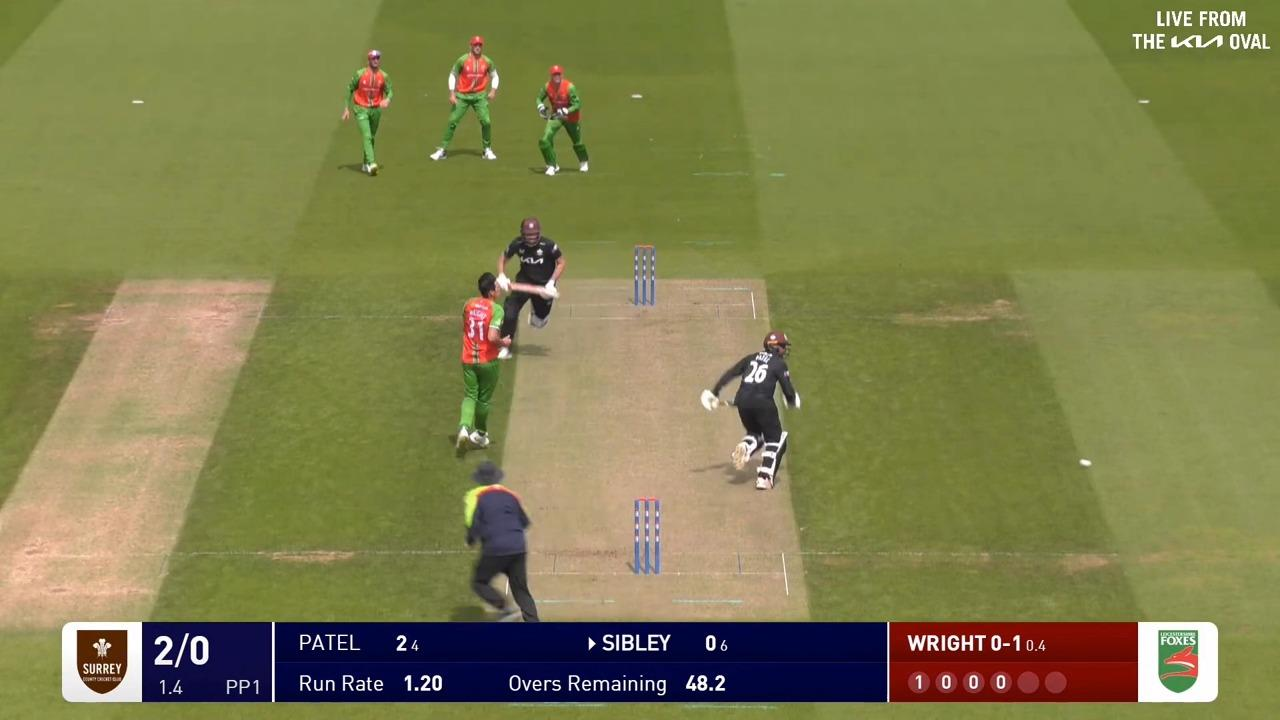sports ball: (1080, 458, 1091, 466)
